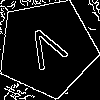V: (21, 23, 74, 80)
